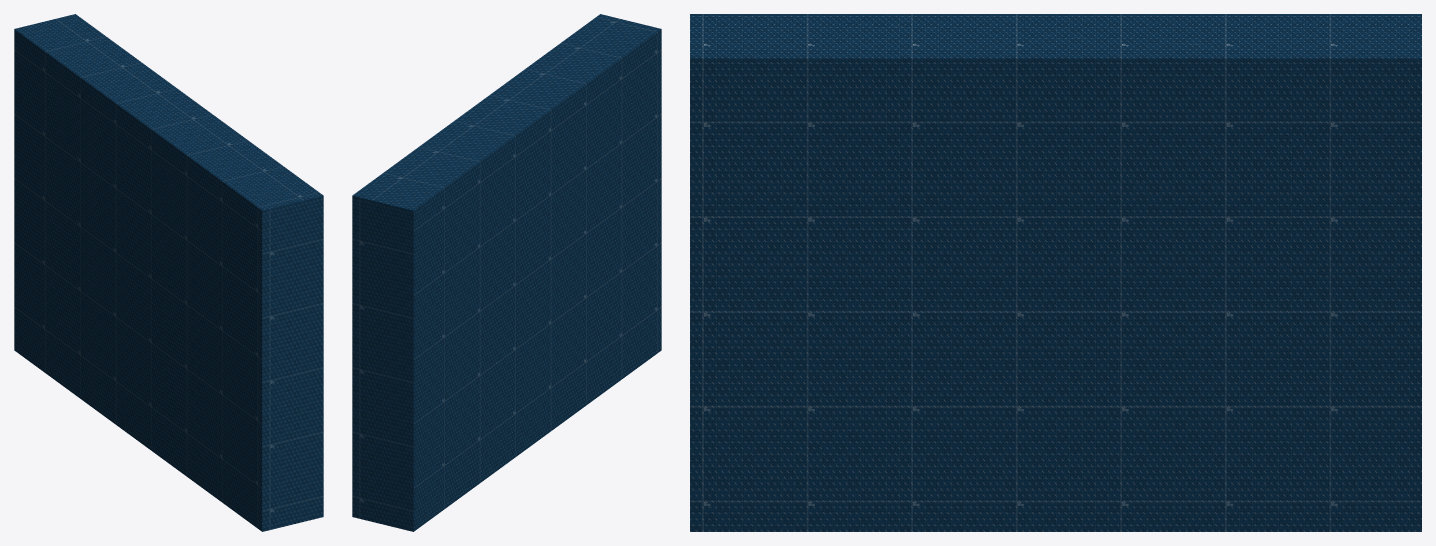
Rendered from WallA7mX5m.fbx.
3 views of the same model, side by side, from view 1: azimuth 30°, elevation 25°; view 2: azimuth 150°, elevation 25°; view 3: azimuth 270°, elevation 25° (orthographic). The views are drawn at different scales.
Visible parts, largest first — view 1: 7mwall; view 2: 7mwall; view 3: 7mwall.
Boxes of the visible parts, bbox=[...] form: 7mwall: bbox=[14, 14, 323, 531]; 7mwall: bbox=[352, 14, 661, 531]; 7mwall: bbox=[690, 14, 1421, 531].
Bounding box in the file's own units: 100 × 500 × 700.
Materials: 1 (1 with a texture image).
